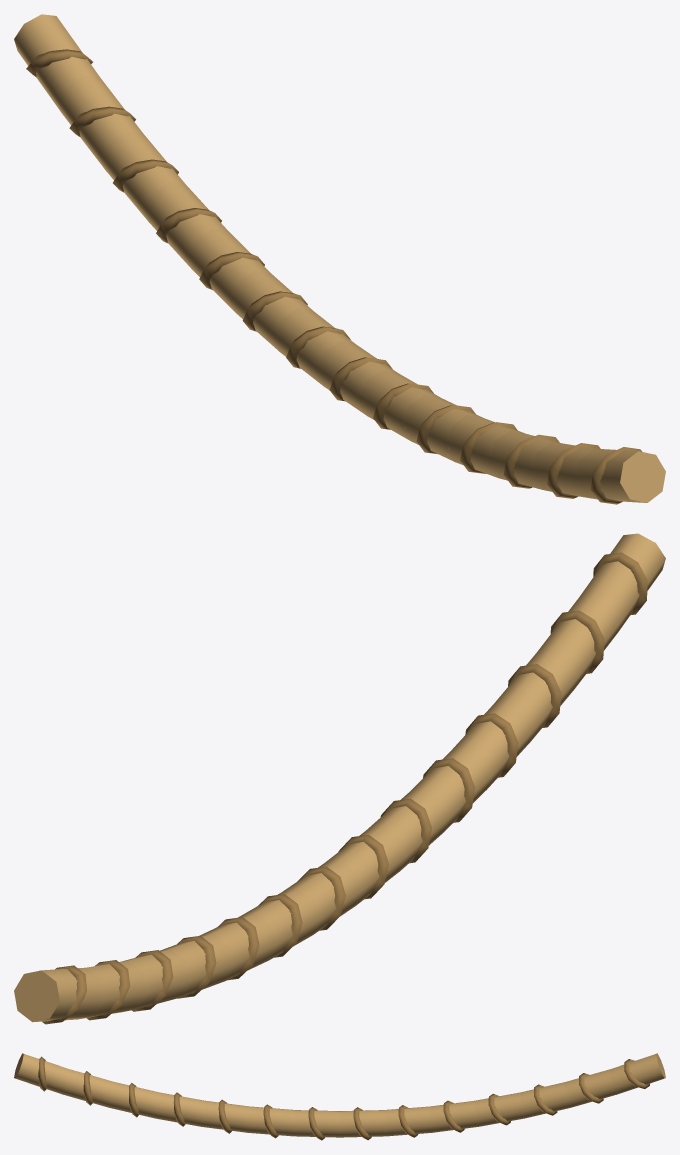
Rendered from magic_rail_rope.glb.
3 renders of one model, top to bottom at view 1: azimuth 30°, elevation 25°; view 2: azimuth 150°, elevation 25°; view 3: azimuth 270°, elevation 25°, orthographic. The views are drawn at different scales.
Visible parts, largest first — view 1: magic_rail_rope; view 2: magic_rail_rope; view 3: magic_rail_rope.
Part boxes in pixels (box(x1,y1,x2,y2)): magic_rail_rope: box(14, 14, 665, 504); magic_rail_rope: box(14, 533, 665, 1024); magic_rail_rope: box(14, 1053, 665, 1140).
Size of the model in its own units: 0.0537 by 0.1456 by 1.02.
